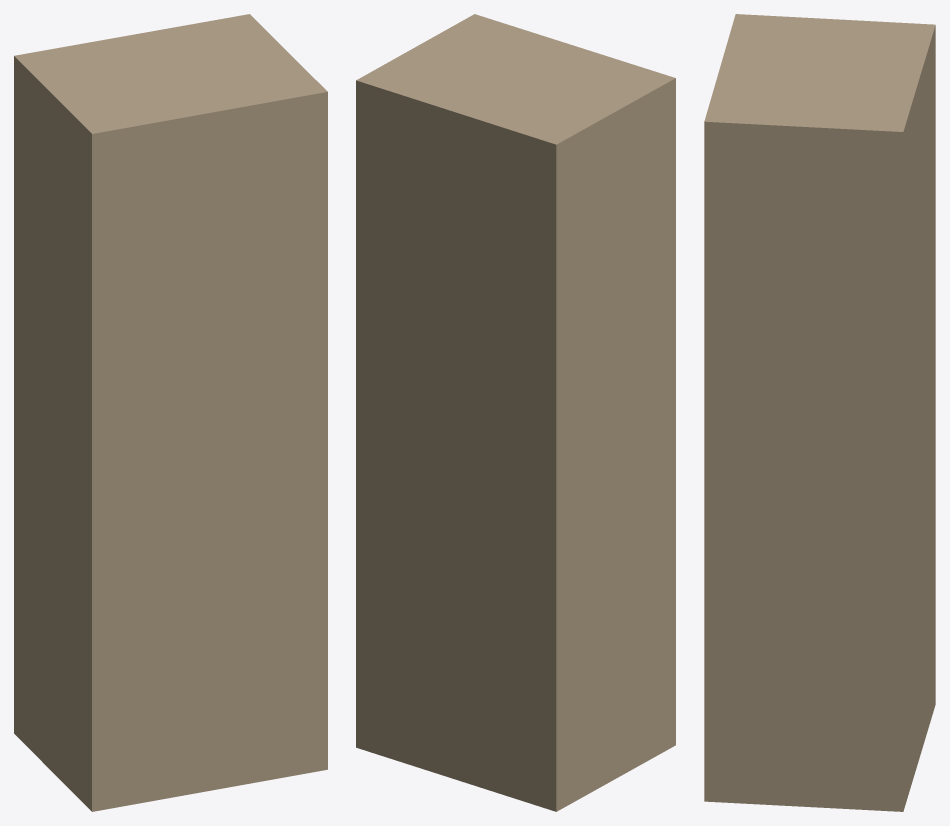
File: bld_393483730.dae
The picture shows the model from 3 angles, left to right: view 1: azimuth 30°, elevation 25°; view 2: azimuth 150°, elevation 25°; view 3: azimuth 270°, elevation 25°; orthographic projection.
Parts seen in each view (by area): view 1: bld_393483730; view 2: bld_393483730; view 3: bld_393483730.
Part boxes in pixels (left/top/right/bottom): bld_393483730: left=14, top=14, right=327, bottom=811; bld_393483730: left=356, top=14, right=675, bottom=811; bld_393483730: left=704, top=14, right=935, bottom=811.
Size of the model in its own units: 2.98 by 2.47 by 8.
